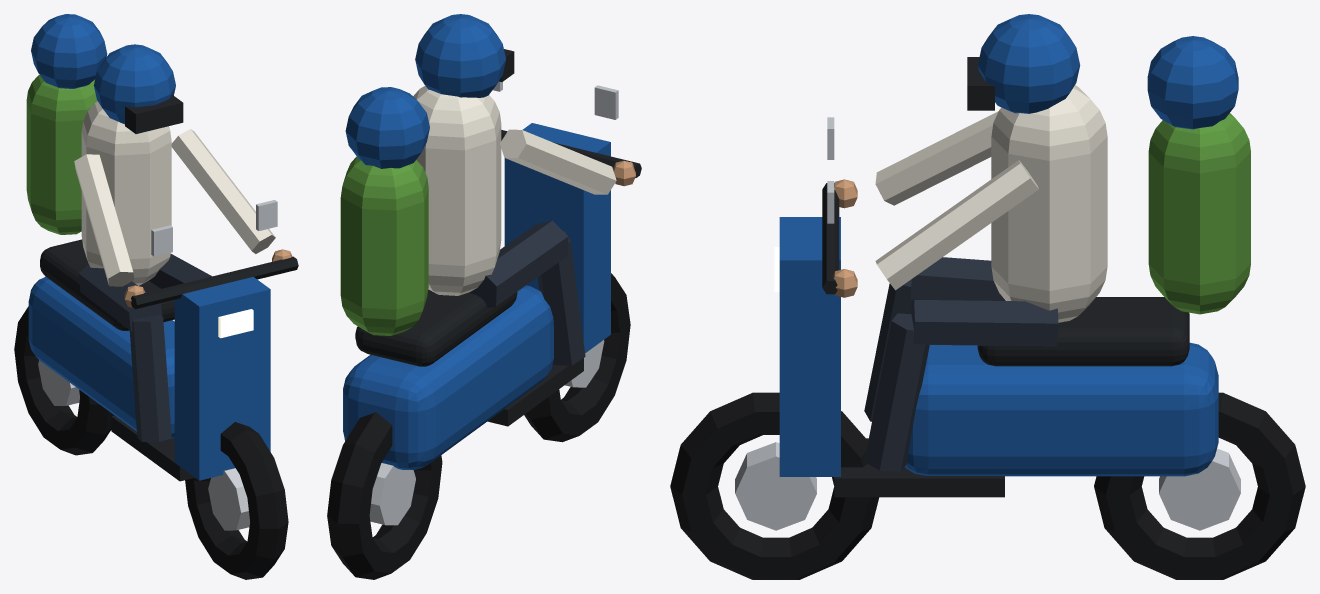
File: motorbike_d.glb
3 renders of one model, left to right at view 1: azimuth 30°, elevation 25°; view 2: azimuth 150°, elevation 25°; view 3: azimuth 270°, elevation 25°, orthographic. The views are drawn at different scales.
Visible parts, largest first — view 1: moto; view 2: moto; view 3: moto.
Boxes of the visible parts, <box> form: moto: <box>14,14,298,579</box>; moto: <box>327,14,641,579</box>; moto: <box>670,14,1305,579</box>.
Size of the model in its own units: 0.71 by 1.81 by 1.86.
